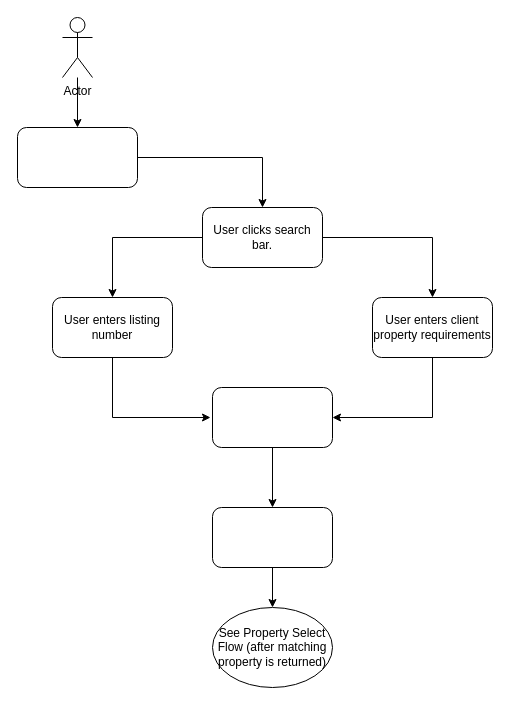
The diagram is 510 pixels wide and 705 high, and some of its shapes have lost their labels. The box of each missing label's shape, as (x1, y1, x2, y2) in pixels:
Matching property or properties returned: (212, 506, 332, 568)
Property page: (16, 126, 138, 188)
Req sent to api for matching data: (212, 386, 332, 448)
